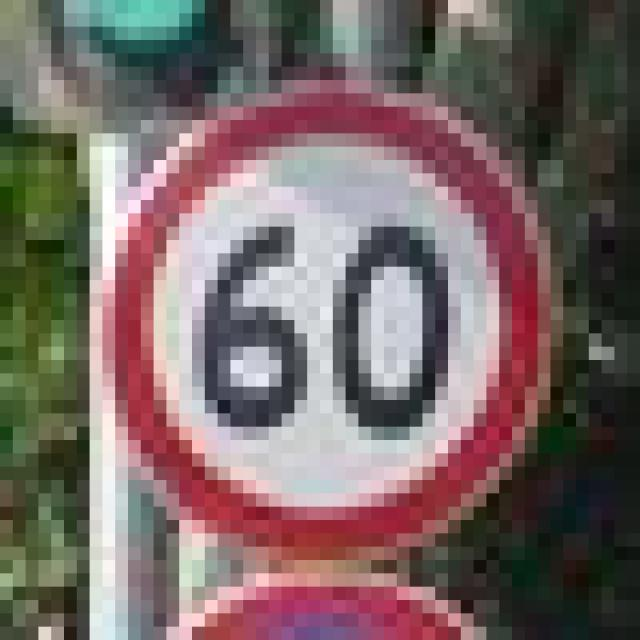SPEED_LIMIT_60: (102, 80, 538, 547)
